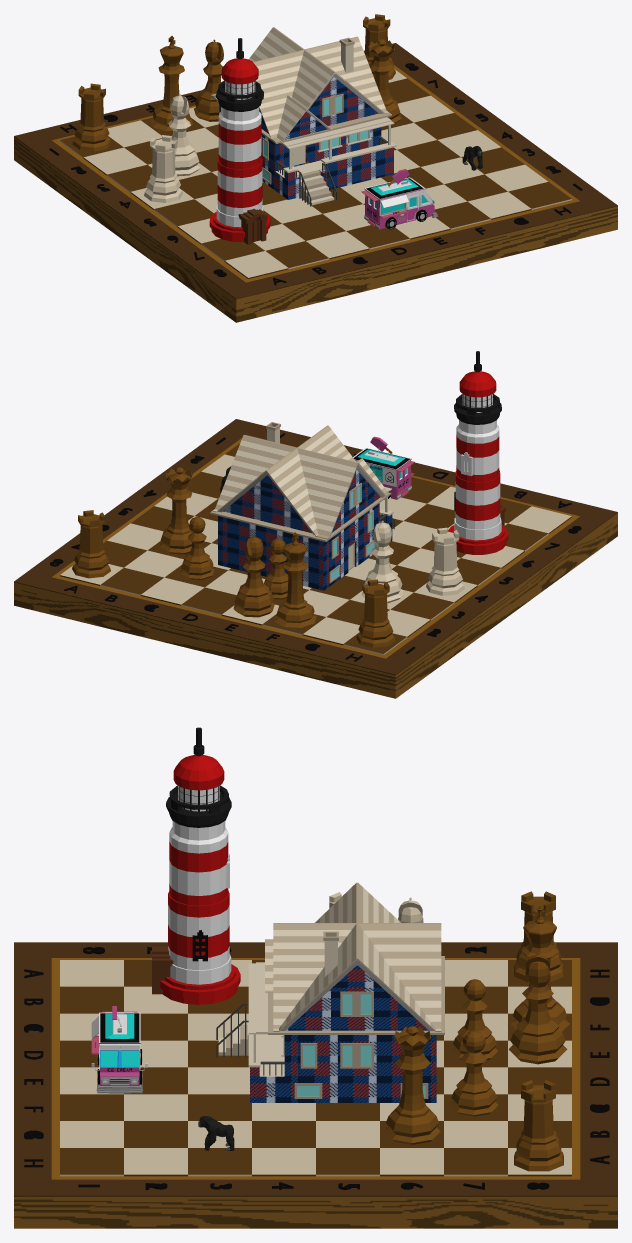
3 views of the same model, one above another, from view 1: azimuth 30°, elevation 25°; view 2: azimuth 150°, elevation 25°; view 3: azimuth 270°, elevation 25° (orthographic). The views are drawn at different scales.
Parts seen in each view (by area): view 1: Cube.002, Cube.171, OBJRANDOM_LIGHTHOUSE, VEHICLES_ICE_CREAM_TRUCK; view 2: Cube.002, Cube.171, OBJRANDOM_LIGHTHOUSE, VEHICLES_ICE_CREAM_TRUCK; view 3: Cube.002, Cube.171, OBJRANDOM_LIGHTHOUSE, VEHICLES_ICE_CREAM_TRUCK, ANIMAL_GORILA.
Part boxes in pixels (left/top/right/bottom): Cube.002: left=14, top=14, right=617, bottom=322; Cube.171: left=211, top=27, right=396, bottom=206; OBJRANDOM_LIGHTHOUSE: left=209, top=38, right=270, bottom=244; VEHICLES_ICE_CREAM_TRUCK: left=361, top=169, right=438, bottom=229; Cube.002: left=14, top=419, right=617, bottom=698; Cube.171: left=210, top=422, right=394, bottom=590; OBJRANDOM_LIGHTHOUSE: left=447, top=351, right=508, bottom=554; VEHICLES_ICE_CREAM_TRUCK: left=353, top=436, right=414, bottom=499; Cube.002: left=14, top=891, right=617, bottom=1228; Cube.171: left=216, top=882, right=444, bottom=1102; OBJRANDOM_LIGHTHOUSE: left=152, top=727, right=240, bottom=1004; VEHICLES_ICE_CREAM_TRUCK: left=91, top=1006, right=147, bottom=1093; ANIMAL_GORILA: left=198, top=1116, right=234, bottom=1150.
Size of the model in its own units: 3981 by 2239 by 4012.
42 materials, 3 textured.
